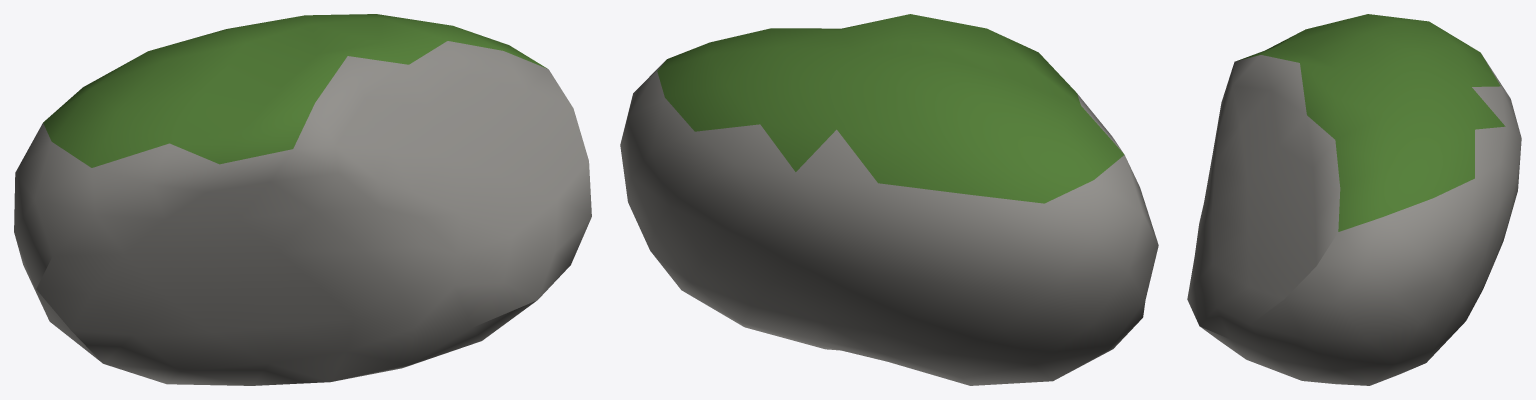
The model's file is boulder_c.glb.
3 views of the same model, side by side, from view 1: azimuth 30°, elevation 25°; view 2: azimuth 150°, elevation 25°; view 3: azimuth 270°, elevation 25° (orthographic). The views are drawn at different scales.
Parts seen in each view (by area): view 1: boulder_c; view 2: boulder_c; view 3: boulder_c.
Part boxes in pixels (box(x1,y1,x2,y2)): boulder_c: box(14, 14, 591, 385); boulder_c: box(620, 14, 1158, 385); boulder_c: box(1187, 14, 1521, 385).
Bounding box in the file's own units: 3.01 × 1.78 × 1.88.
